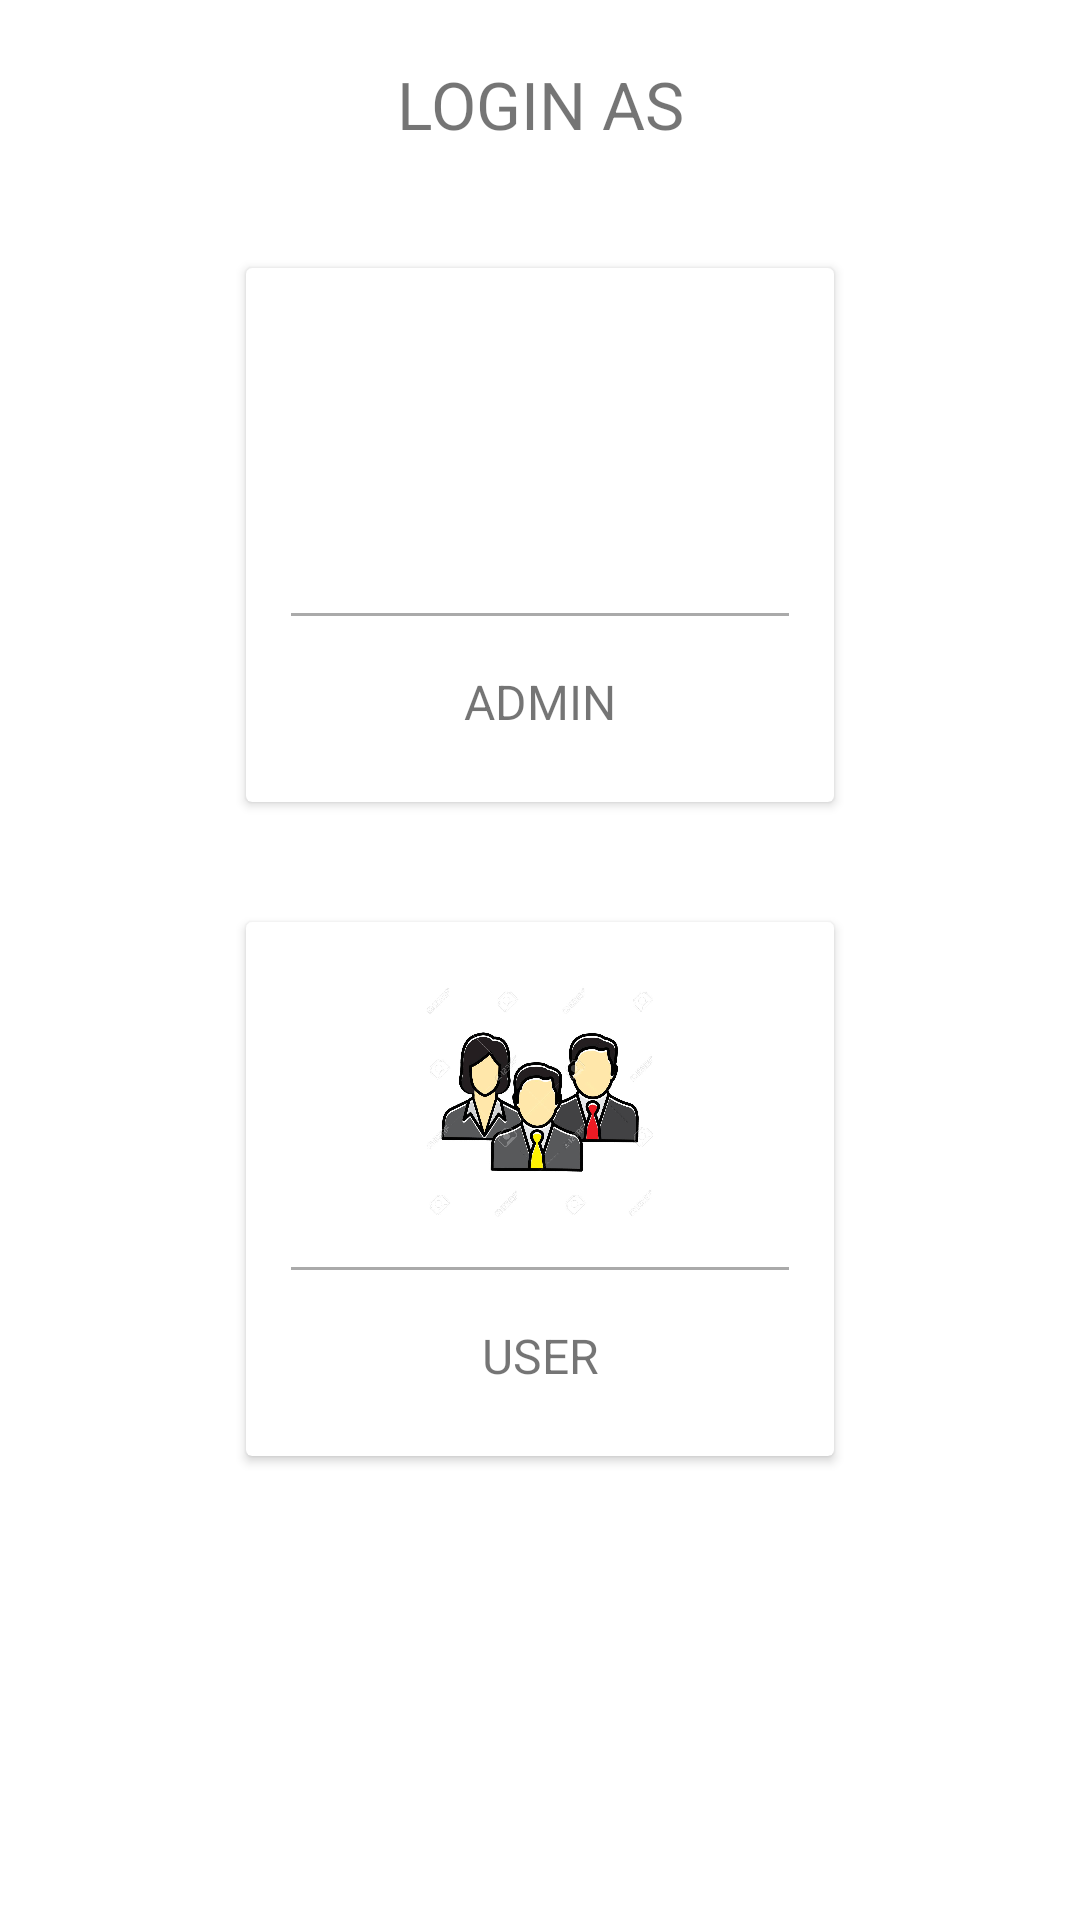

Locate icon controls on the screen. Image size 1080 x 1920, boxes as (x1, y1, x2, y2).
emplyee: (432, 1000, 652, 1213)
